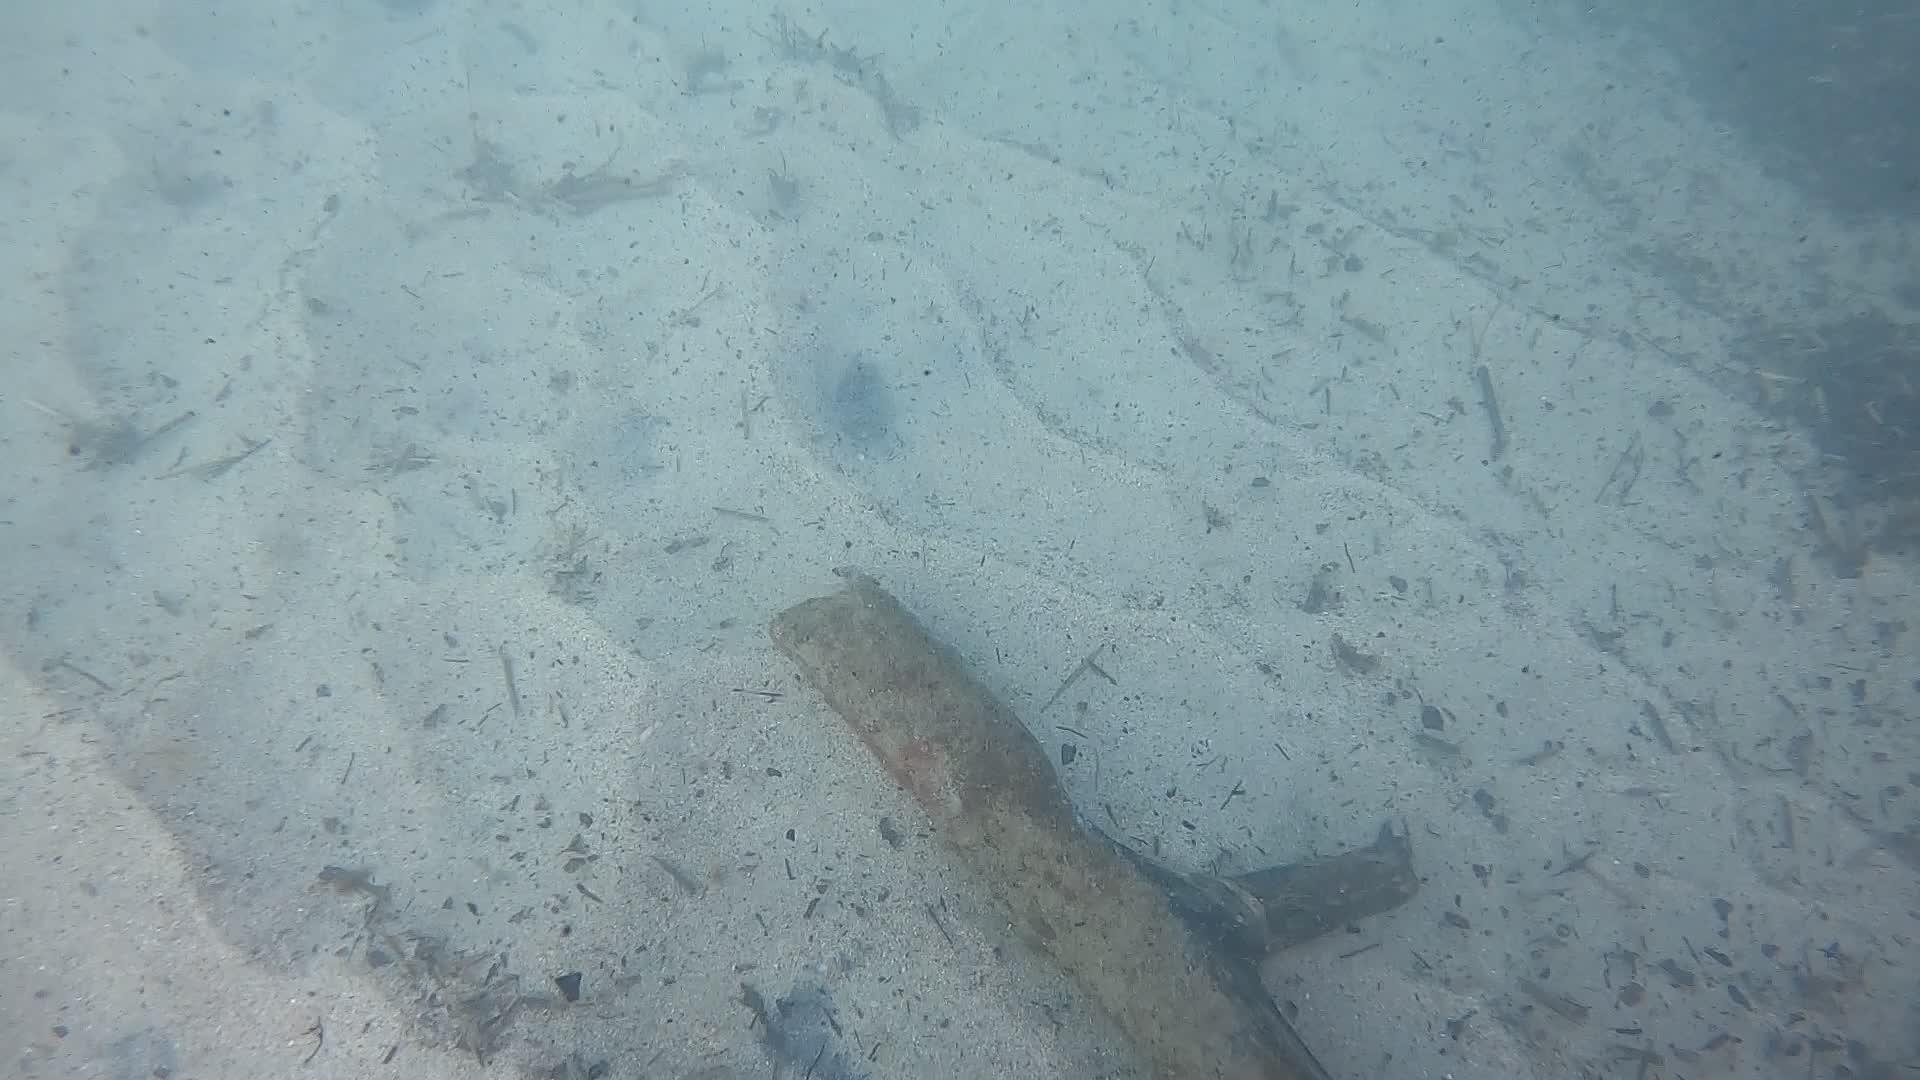wood: (767, 572, 1420, 1080)
